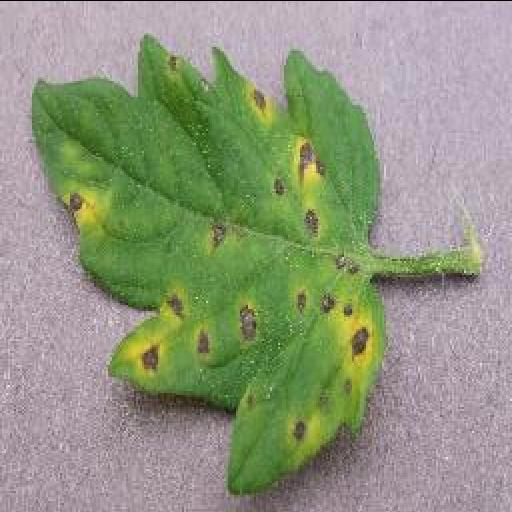disease_tomato: (30, 37, 386, 490)
